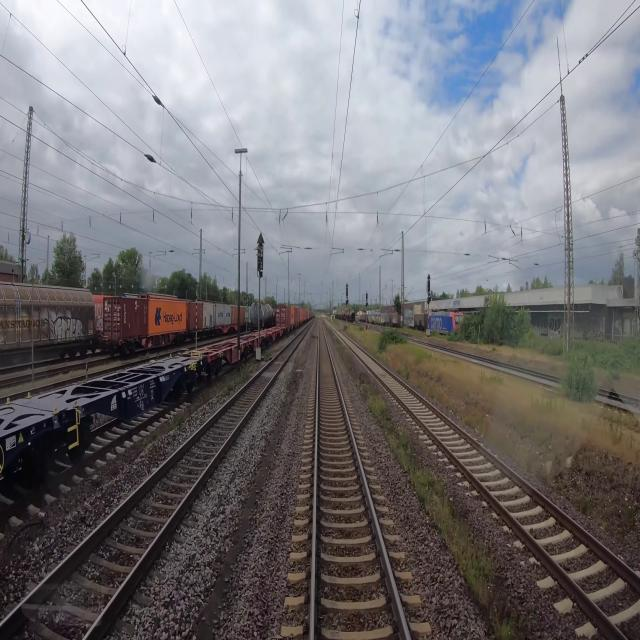Plant: (358, 381, 530, 639)
